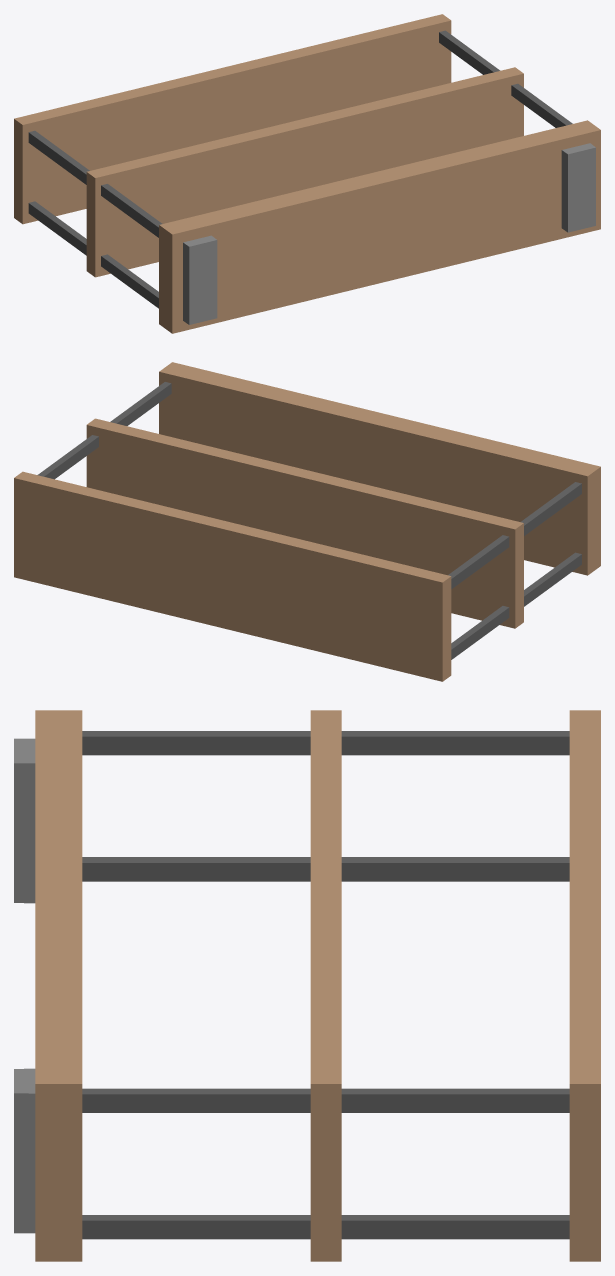
Rendered from Modern_Shelves_2.glb.
3 renders of one model, top to bottom at view 1: azimuth 30°, elevation 25°; view 2: azimuth 150°, elevation 25°; view 3: azimuth 270°, elevation 25°, orthographic. The views are drawn at different scales.
Visible parts, largest first — view 1: Modern Shelves 2; view 2: Modern Shelves 2; view 3: Modern Shelves 2.
Boxes of the visible parts, <box> form: Modern Shelves 2: <box>14,14,600,333</box>; Modern Shelves 2: <box>14,362,600,681</box>; Modern Shelves 2: <box>14,710,600,1261</box>.
Size of the model in its own units: 1.24 by 0.2757 by 0.8266.
Materials: 1 (1 with a texture image).
